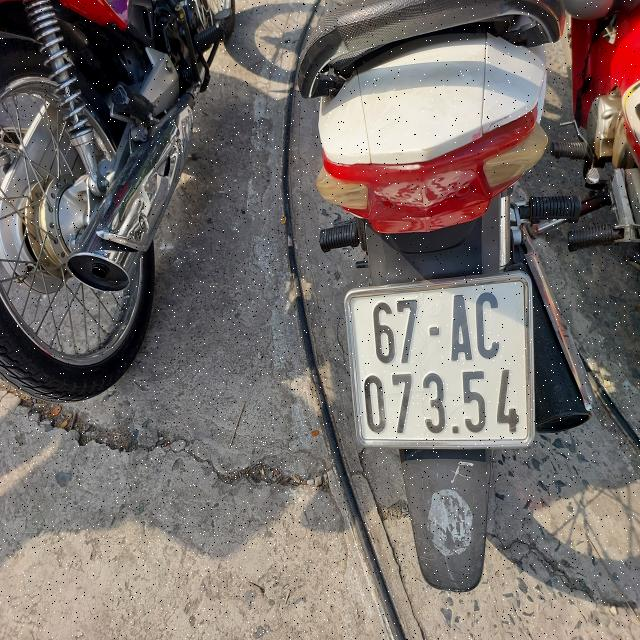0: (362, 373, 386, 437)
3: (421, 370, 448, 433)
4: (496, 364, 521, 438)
5: (461, 364, 488, 434)
6: (373, 295, 395, 367)
7: (396, 295, 418, 367), (392, 372, 416, 434)
A: (448, 294, 473, 362)
C: (478, 289, 508, 363)
